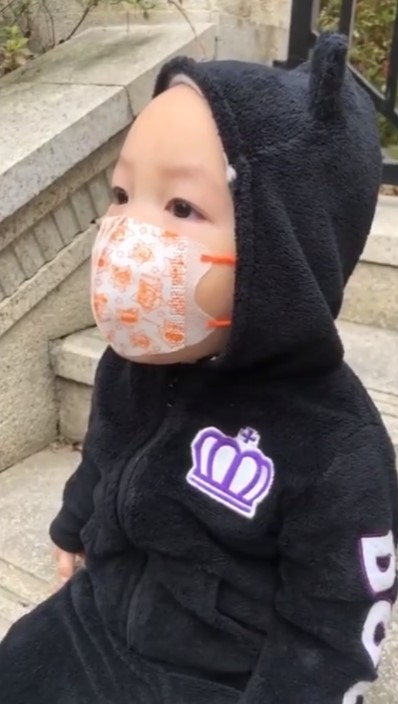face_with_mask: (89, 61, 348, 369)
